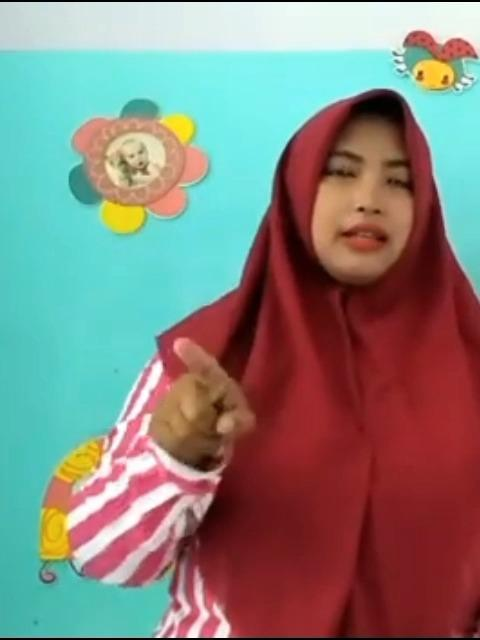Z: (143, 332, 263, 466)
